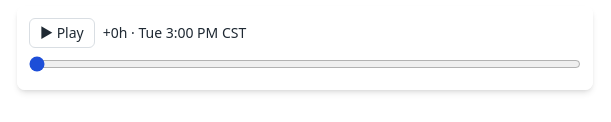
Test case: TimeSlider › has a Play button that follows the store
The width and height of the screenshot is (611, 122).
Later steps or results of the test are not shown.
Click the button "▶ Play": click(62, 33) [29,18,95,48]
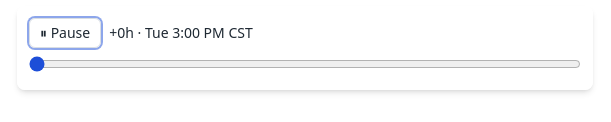
Expected: the button "⏸ Pause" is pressed, [29,18,101,48]
